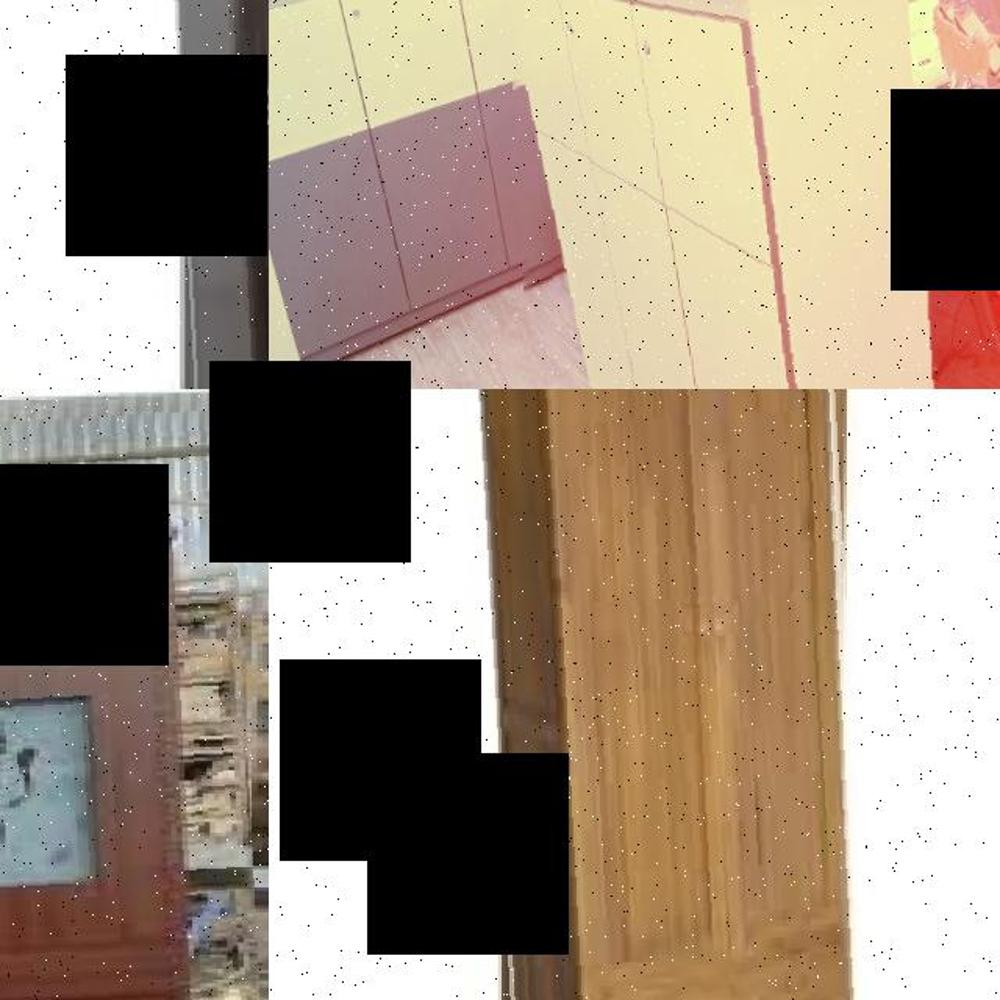cabinet: (484, 389, 866, 1000), (513, 0, 978, 389), (0, 419, 269, 1000), (169, 0, 269, 389)
